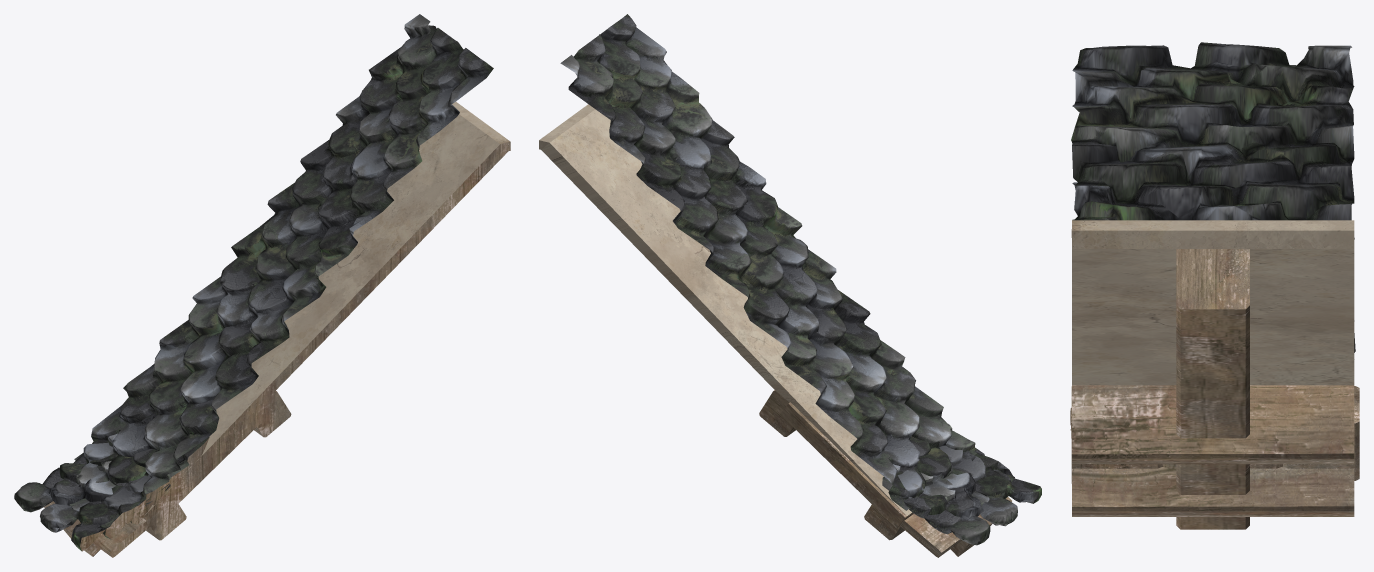
File: SM_Roof_A_09.fbx
3 renders of one model, left to right at view 1: azimuth 30°, elevation 25°; view 2: azimuth 150°, elevation 25°; view 3: azimuth 270°, elevation 25°, orthographic. The views are drawn at different scales.
Parts seen in each view (by area): view 1: SM_Roof_A_09_LOD0; view 2: SM_Roof_A_09_LOD0; view 3: SM_Roof_A_09_LOD0.
Part boxes in pixels (x1,y1,x2,y2): SM_Roof_A_09_LOD0: (14, 14, 510, 557); SM_Roof_A_09_LOD0: (539, 14, 1041, 557); SM_Roof_A_09_LOD0: (1070, 42, 1359, 529).
Size of the model in its own units: 368 by 103 by 331.
